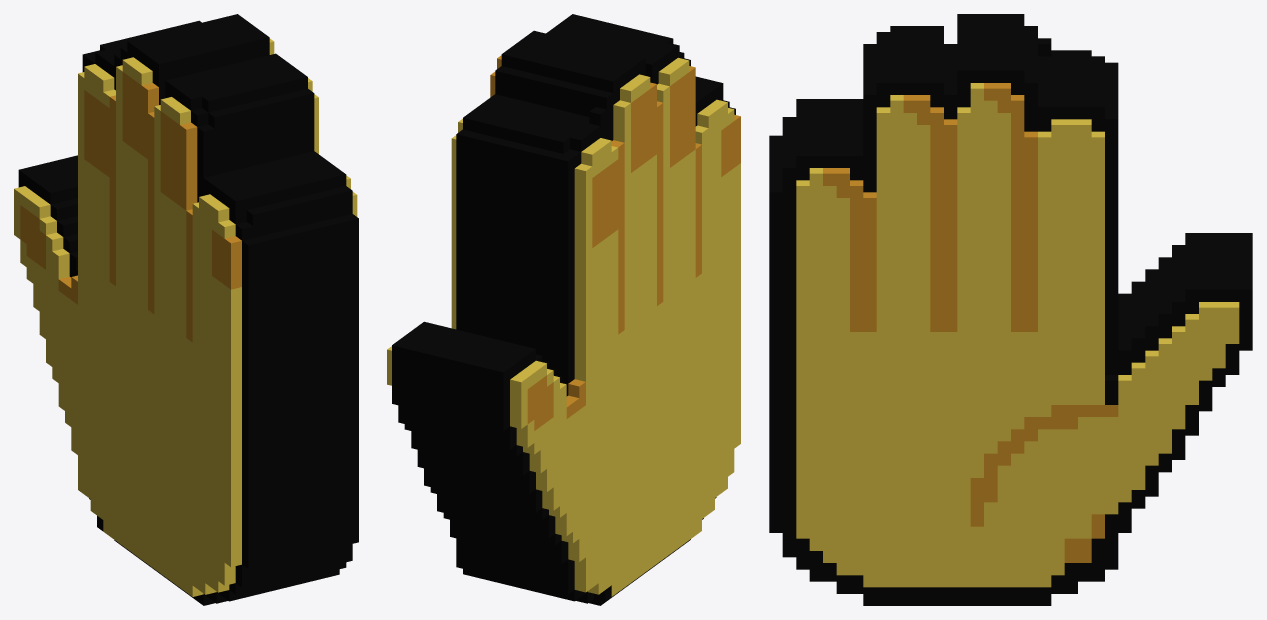
The model's file is Hand.obj.
3 views of the same model, side by side, from view 1: azimuth 30°, elevation 25°; view 2: azimuth 150°, elevation 25°; view 3: azimuth 270°, elevation 25° (orthographic). The views are drawn at different scales.
Bounding box in the file's own units: 12 × 44 × 36.
1 material, 1 textured.
